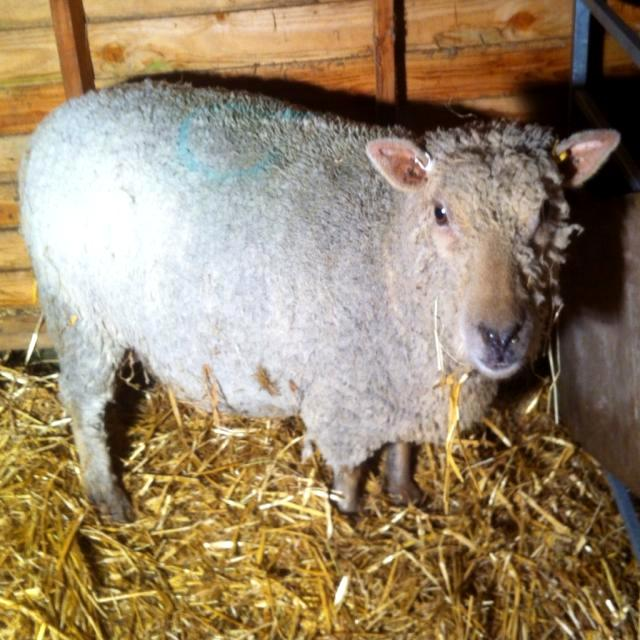sheep: (18, 74, 608, 519)
